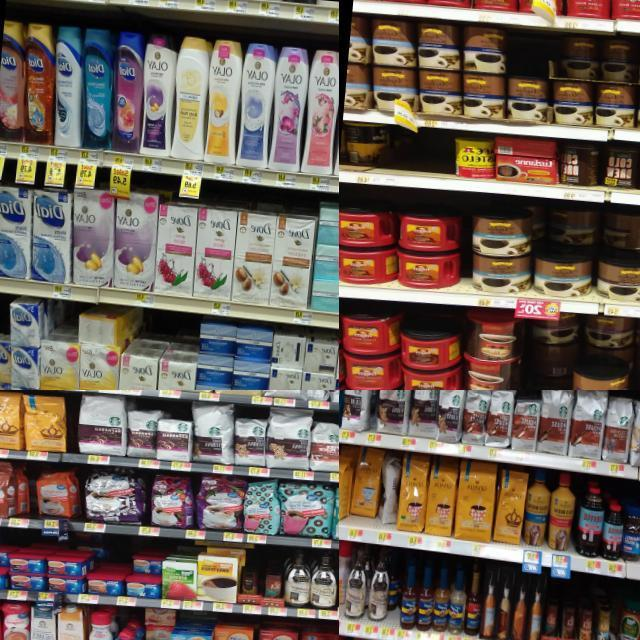empty: (379, 127, 453, 190), (335, 570, 339, 620)
